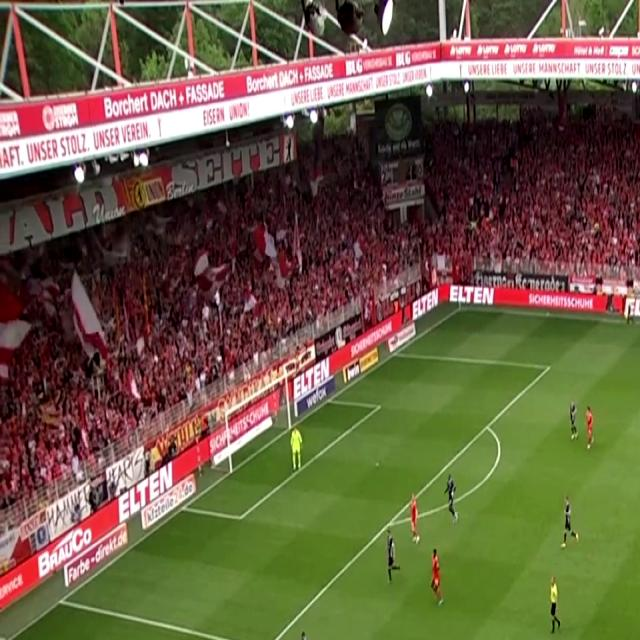goalkeeper: (286, 419, 307, 475)
referee: (544, 575, 569, 640)
soccer-player: (402, 491, 428, 550), (426, 546, 448, 613), (558, 492, 582, 553), (439, 470, 462, 525), (380, 532, 400, 588), (564, 399, 583, 450), (582, 398, 598, 451), (293, 627, 319, 640)
